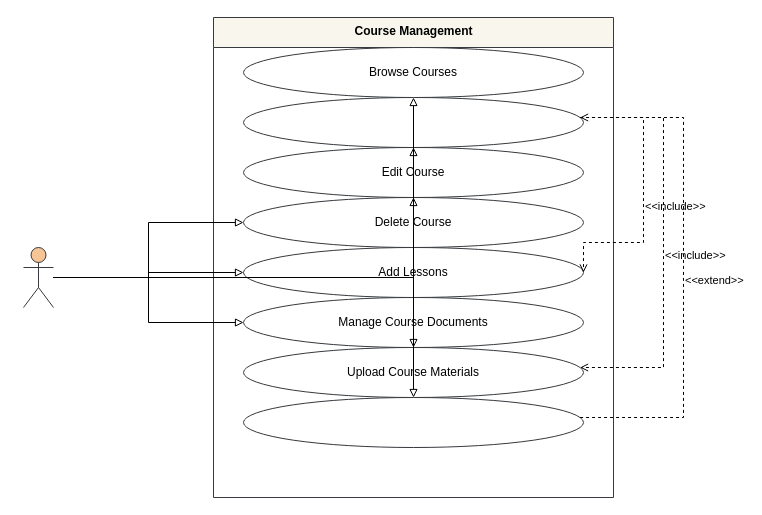
The diagram is 762 pixels wide and 515 high, and some of its shapes have lost their labels. Each missing label, with the centre of its shape:
Create Course: (413,122)
Set Prerequisites: (413,422)
Teacher: (38,277)
